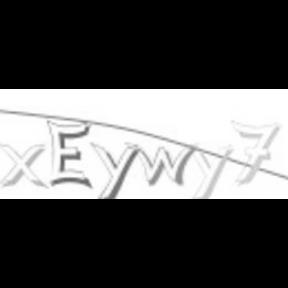E: (45, 120, 93, 190)
w: (130, 140, 194, 188)
x: (0, 142, 50, 188)
y: (228, 117, 282, 189), (88, 140, 138, 200), (188, 144, 234, 200)
